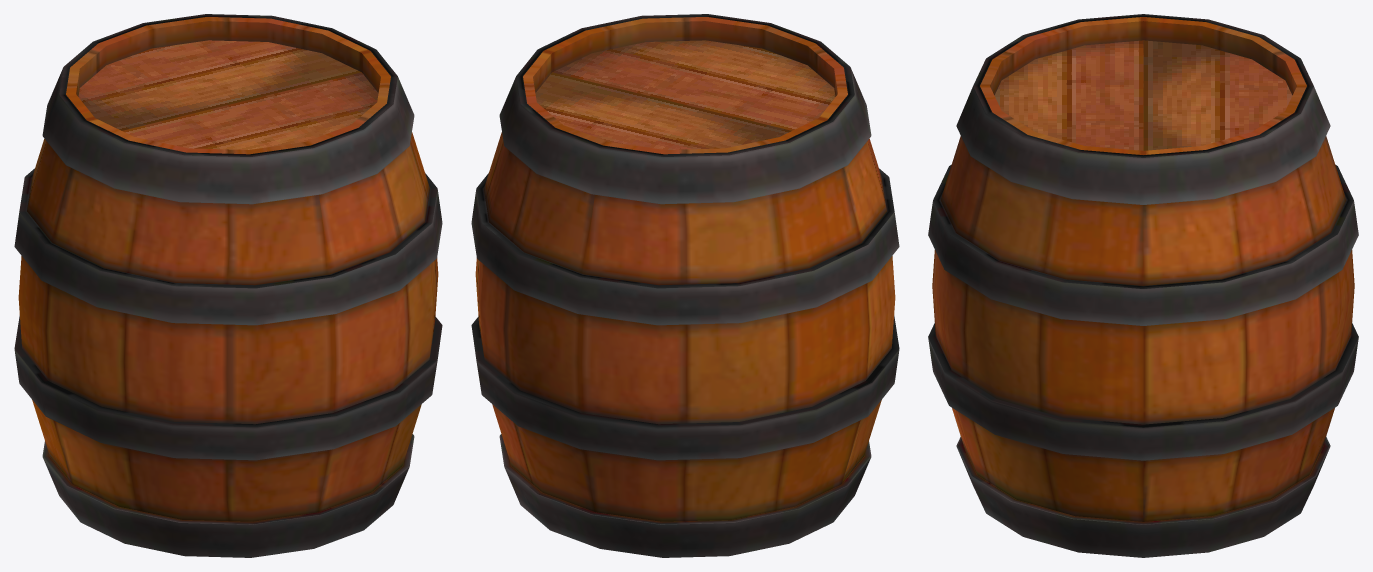
The model's file is woodenBarrel.fbx.
3 renders of one model, left to right at view 1: azimuth 30°, elevation 25°; view 2: azimuth 150°, elevation 25°; view 3: azimuth 270°, elevation 25°, orthographic.
Parts seen in each view (by area): view 1: Barrel:default1; view 2: Barrel:default1; view 3: Barrel:default1.
Part boxes in pixels (x1=…): Barrel:default1: x1=14, y1=14, x2=442, y2=557; Barrel:default1: x1=471, y1=14, x2=899, y2=557; Barrel:default1: x1=928, y1=14, x2=1358, y2=557.
Size of the model in its own units: 65.56 by 67.16 by 65.56.
Materials: 2 (2 with a texture image).
